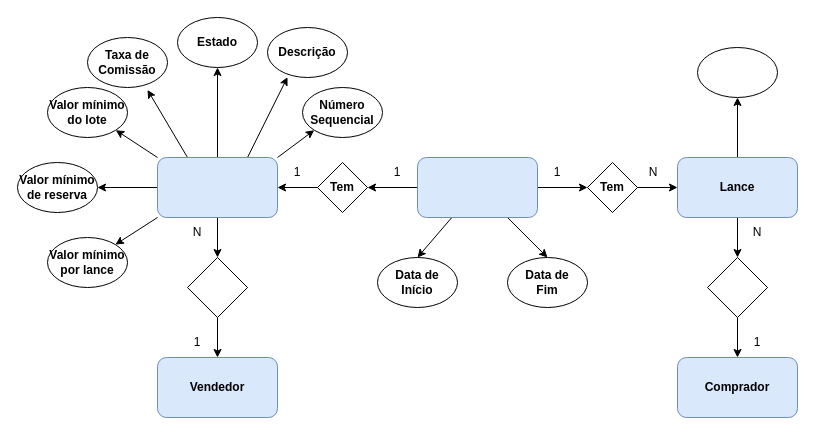
Image size: 815x435. Some labels were removed from this diagram. The box of each missing label's shape, as (x1, y1, x2, y2) in pixels:
Feito por: (706, 256, 768, 318)
Leilão: (416, 156, 538, 218)
Lote: (156, 156, 278, 218)
Valor: (696, 46, 778, 98)
Vendido por: (186, 256, 248, 318)
